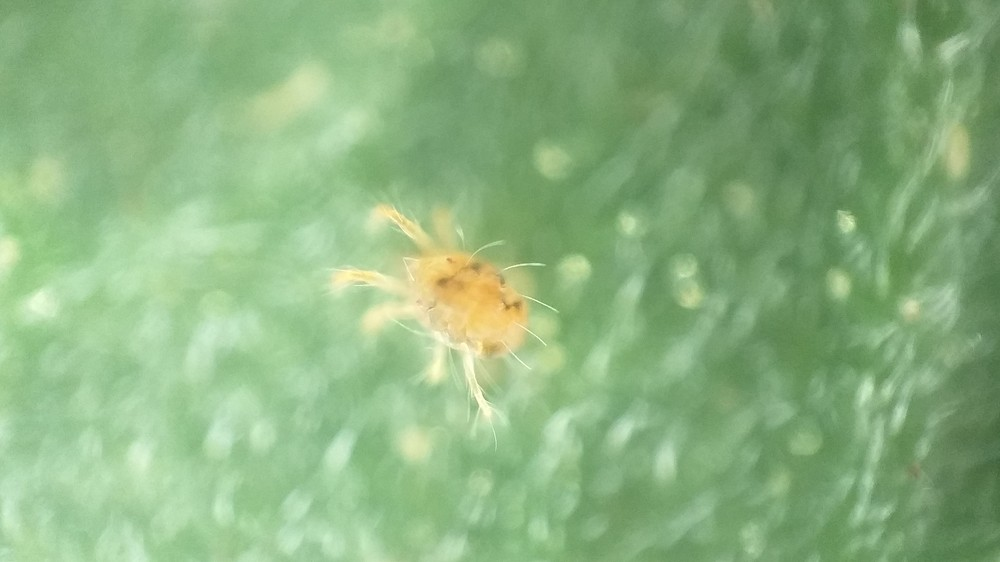Aracnido Rojo: (308, 184, 582, 431)
